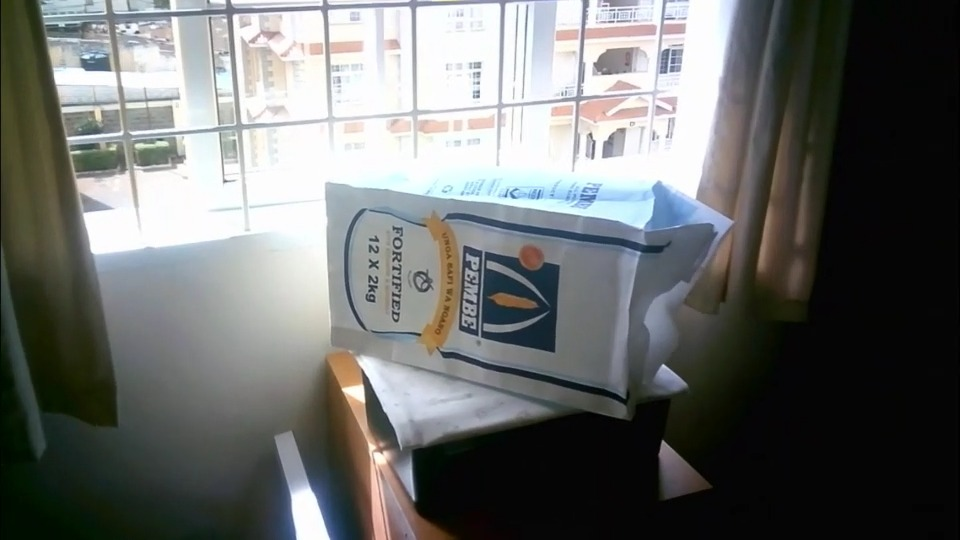wheat_flour_blue_label: (323, 171, 735, 416)
